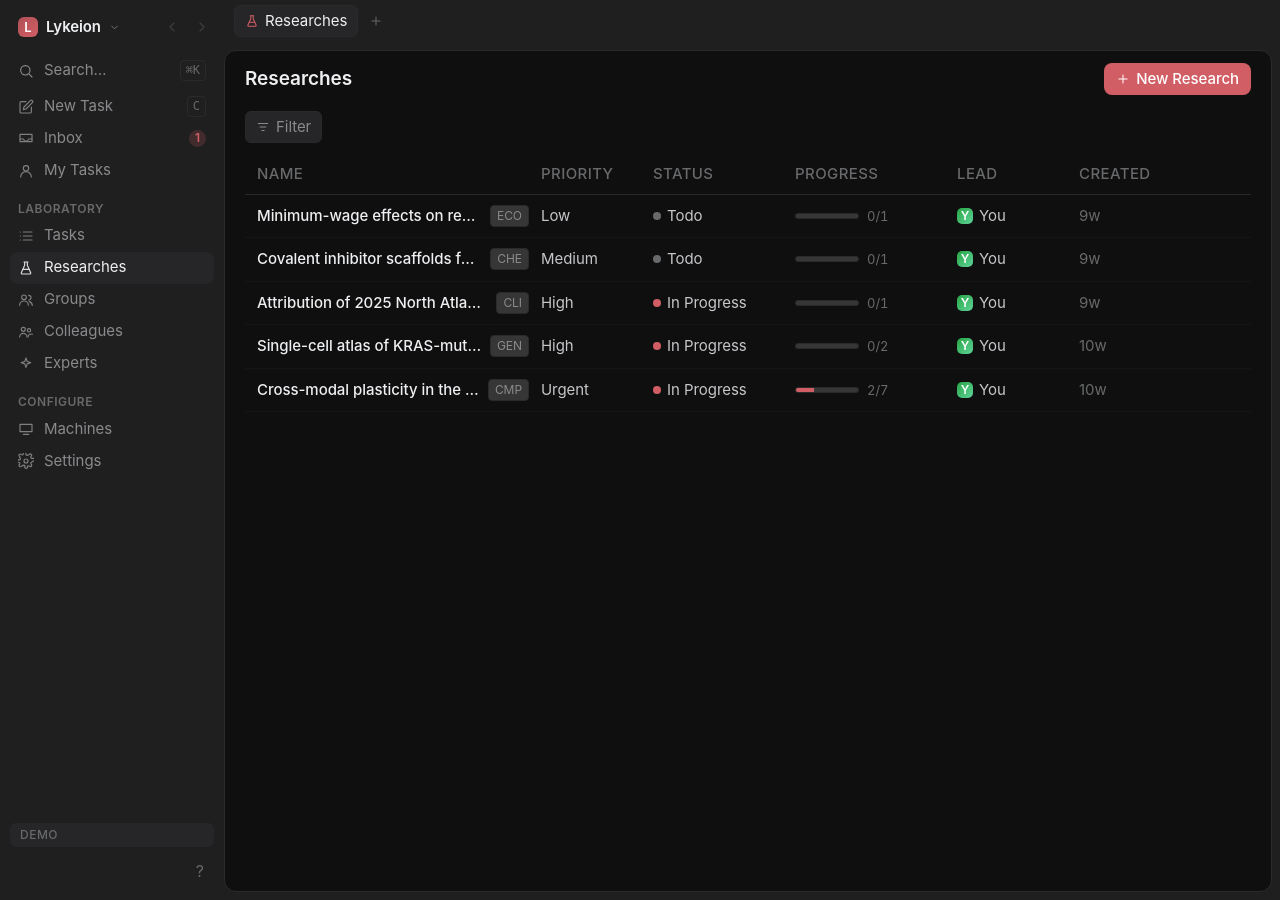
Test: Machines with nothing on it says nothing about how to add one
The width and height of the screenshot is (1280, 900).
Click the link "Machines" at [65, 428], box [18, 419, 112, 438]
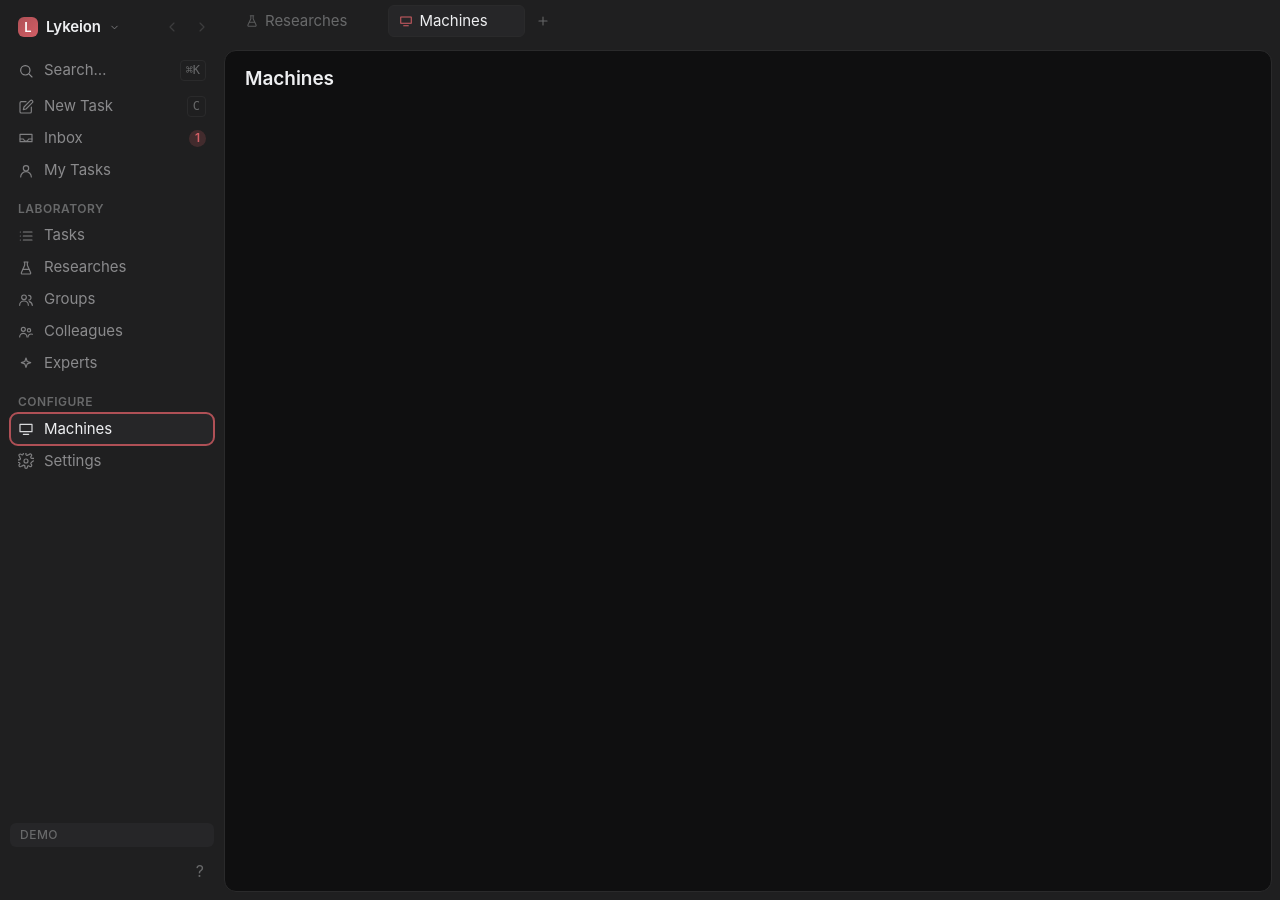
Check: the heading "Machines" is shown, box [245, 67, 334, 91]
